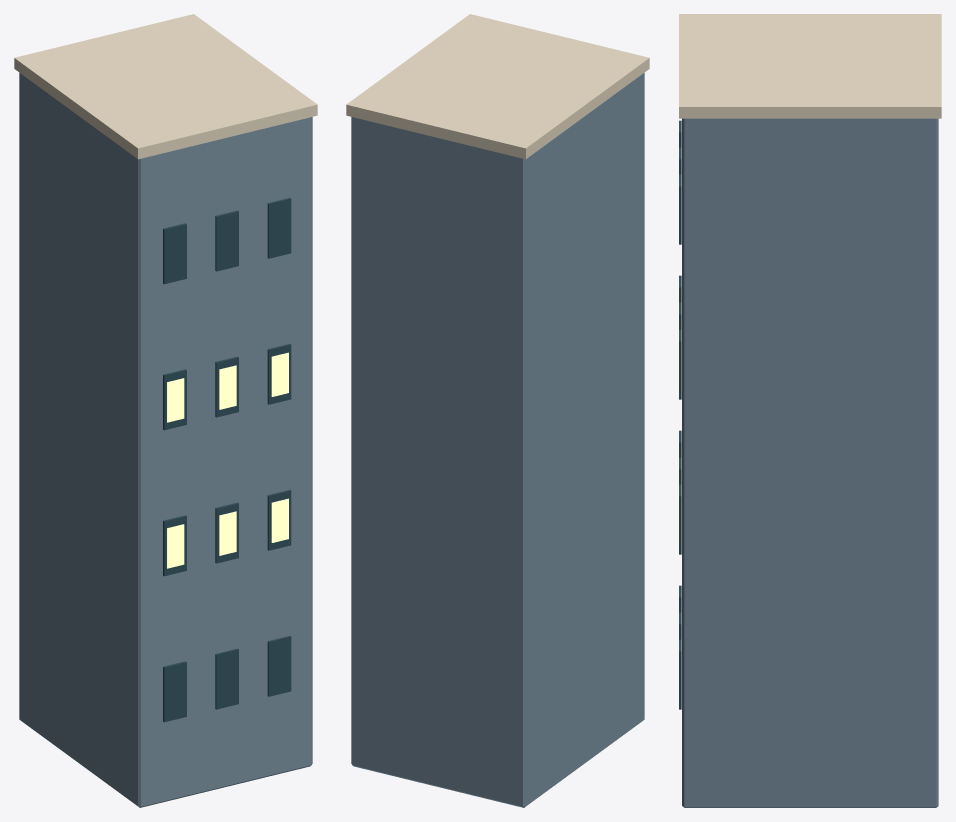
Rendered from sf4_far_block_0.glb.
3 renders of one model, left to right at view 1: azimuth 30°, elevation 25°; view 2: azimuth 150°, elevation 25°; view 3: azimuth 270°, elevation 25°, orthographic. The views are drawn at different scales.
Parts seen in each view (by area): view 1: sf4_far_block_0__sf3-dusty-blue, sf4_far_block_0__sf3-warm-ivory, sf4_far_block_0__sf3-deep-glass, sf4_far_block_0__sf3-warm-window; view 2: sf4_far_block_0__sf3-dusty-blue, sf4_far_block_0__sf3-warm-ivory; view 3: sf4_far_block_0__sf3-dusty-blue, sf4_far_block_0__sf3-warm-ivory, sf4_far_block_0__sf3-deep-glass.
Boxes of the visible parts, box(x1,y1,x2,y2) form: sf4_far_block_0__sf3-dusty-blue: box(19, 73, 312, 807); sf4_far_block_0__sf3-warm-ivory: box(14, 14, 317, 159); sf4_far_block_0__sf3-deep-glass: box(163, 198, 291, 722); sf4_far_block_0__sf3-warm-window: box(167, 352, 288, 568); sf4_far_block_0__sf3-dusty-blue: box(351, 73, 644, 807); sf4_far_block_0__sf3-warm-ivory: box(346, 14, 649, 159); sf4_far_block_0__sf3-dusty-blue: box(682, 118, 938, 807); sf4_far_block_0__sf3-warm-ivory: box(679, 14, 941, 118); sf4_far_block_0__sf3-deep-glass: box(679, 120, 681, 709).
Size of the model in its own units: 5.15 by 18.15 by 6.16.
